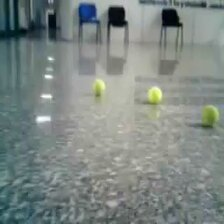tennis: (201, 104, 219, 126), (147, 86, 162, 102), (92, 77, 105, 95)
